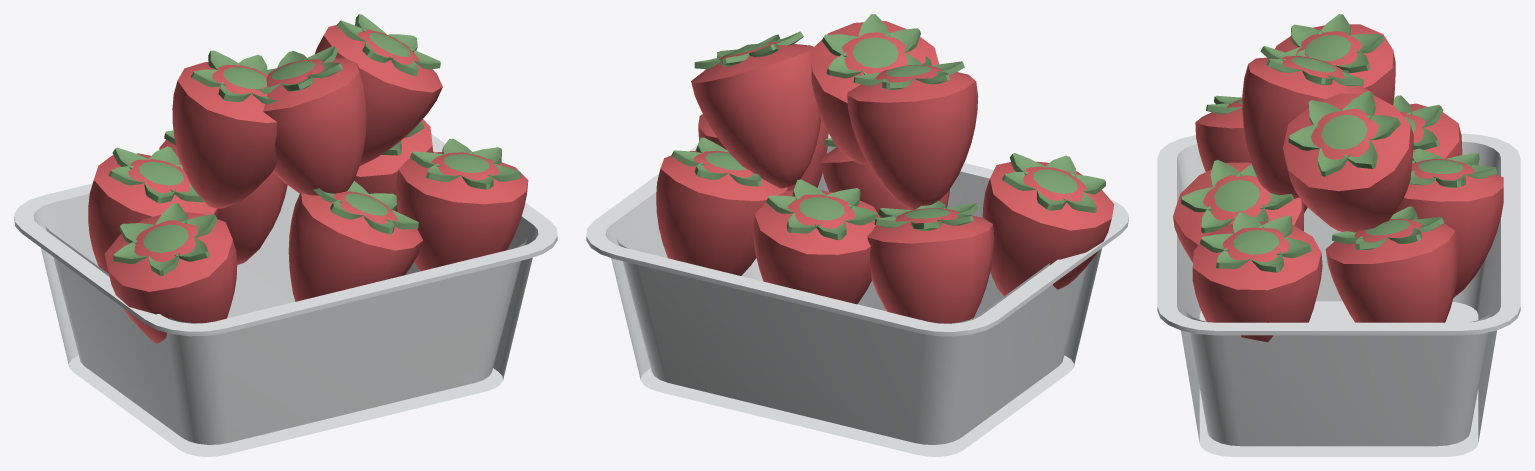
Rendered from fresh-produce-and-groceries-strawberries-punnet-67fa8672__24328.glb.
The picture shows the model from 3 angles, left to right: view 1: azimuth 30°, elevation 25°; view 2: azimuth 150°, elevation 25°; view 3: azimuth 270°, elevation 25°; orthographic projection.
Parts seen in each view (by area): view 1: strawberries-punnet; view 2: strawberries-punnet; view 3: strawberries-punnet.
Boxes of the visible parts, x1=… form: strawberries-punnet: x1=14, y1=14, x2=557, y2=456; strawberries-punnet: x1=586, y1=14, x2=1128, y2=456; strawberries-punnet: x1=1157, y1=14, x2=1520, y2=456.
Size of the model in its own units: 0.1462 by 0.1118 by 0.112.
